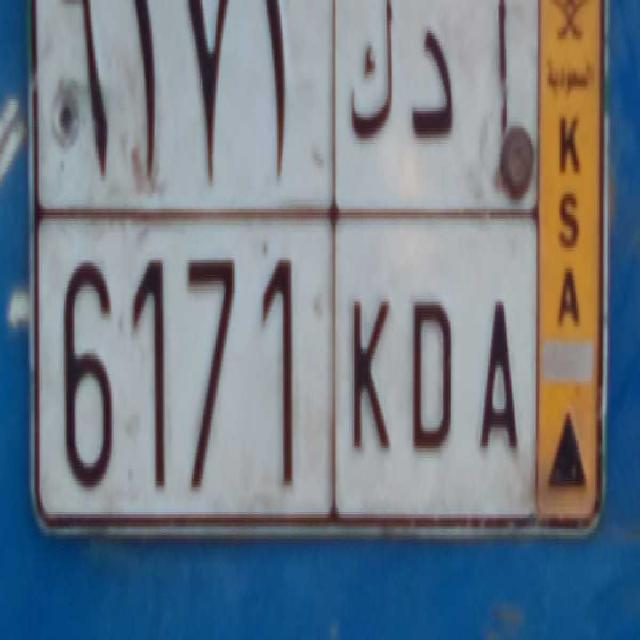license_plate: (28, 206, 540, 531)
